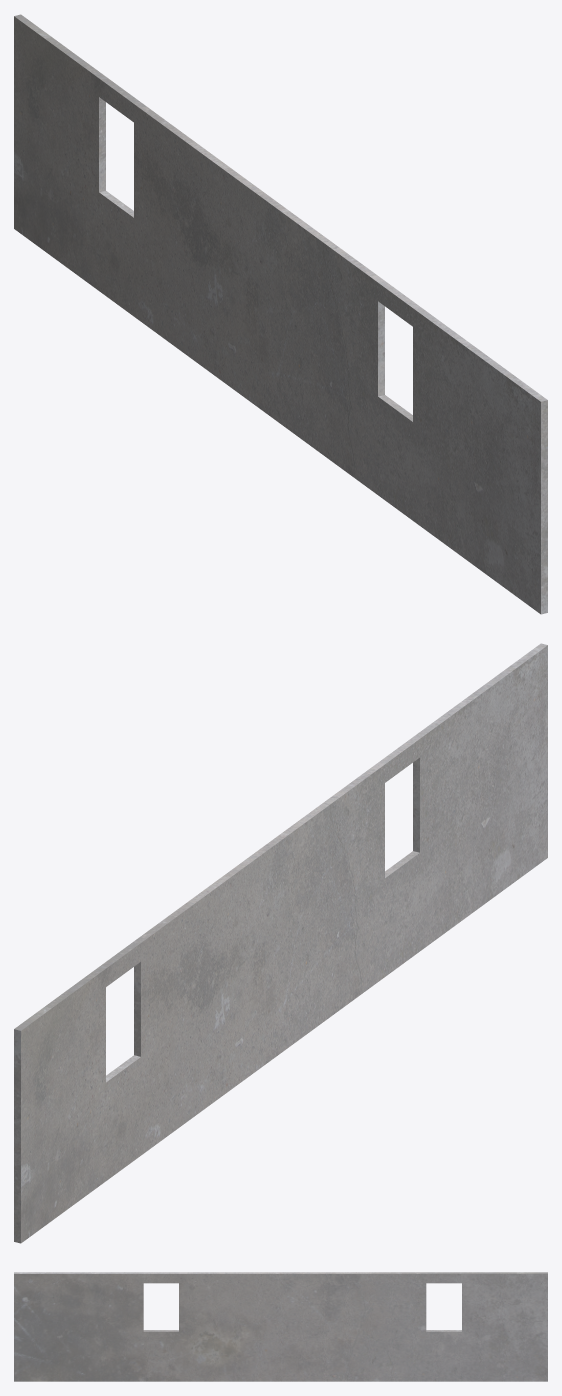
Rendered from murlow.obj.
3 renders of one model, top to bottom at view 1: azimuth 30°, elevation 25°; view 2: azimuth 150°, elevation 25°; view 3: azimuth 270°, elevation 25°, orthographic. The views are drawn at different scales.
Visible parts, largest first — view 1: pCube188; view 2: pCube188; view 3: pCube188.
Boxes of the visible parts, <box> form: pCube188: <box>14,14,547,614</box>; pCube188: <box>14,643,547,1243</box>; pCube188: <box>14,1272,547,1381</box>.
Size of the model in its own units: 22.32 by 645 by 2899.
Materials: 1 (1 with a texture image).
